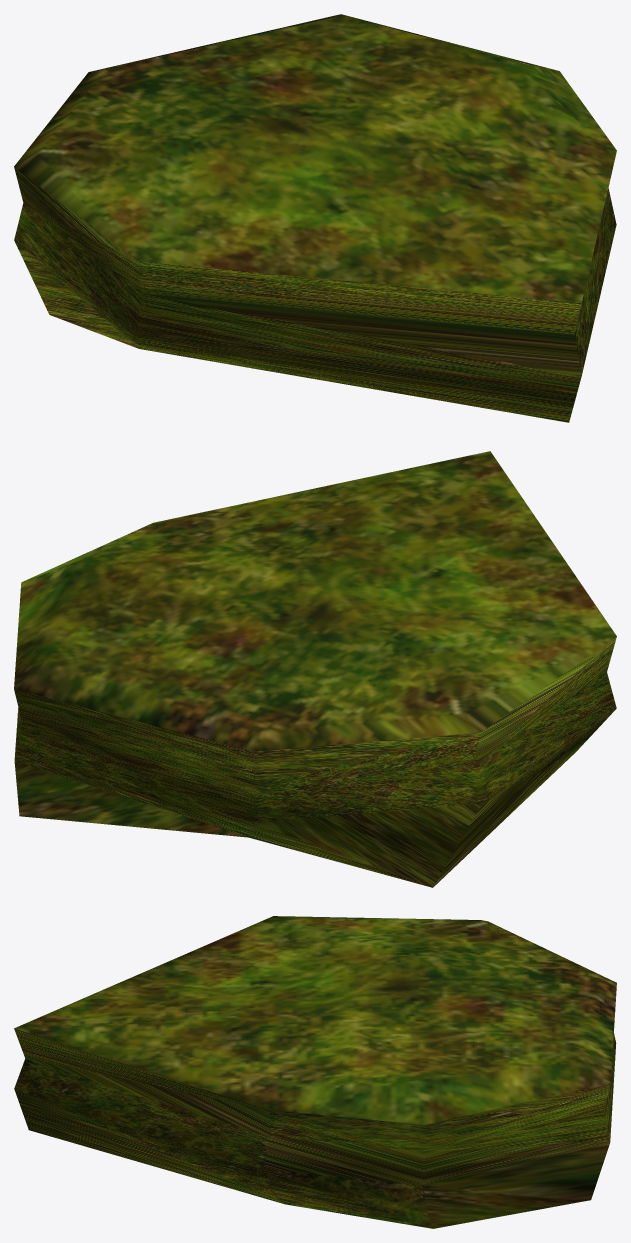
File: TROLLHOLE02_RM_FALL_ROCK04.fbx
3 renders of one model, top to bottom at view 1: azimuth 30°, elevation 25°; view 2: azimuth 150°, elevation 25°; view 3: azimuth 270°, elevation 25°, orthographic. The views are drawn at different scales.
Parts seen in each view (by area): view 1: TROLLHOLE02_RM_FALL_ROCK04; view 2: TROLLHOLE02_RM_FALL_ROCK04; view 3: TROLLHOLE02_RM_FALL_ROCK04.
Part boxes in pixels (<box>): TROLLHOLE02_RM_FALL_ROCK04: <box>14,14,616,422</box>; TROLLHOLE02_RM_FALL_ROCK04: <box>14,451,616,887</box>; TROLLHOLE02_RM_FALL_ROCK04: <box>14,916,616,1228</box>.
Bounding box in the file's own units: 21998 × 8125 × 27163.
Materials: 1 (1 with a texture image).
